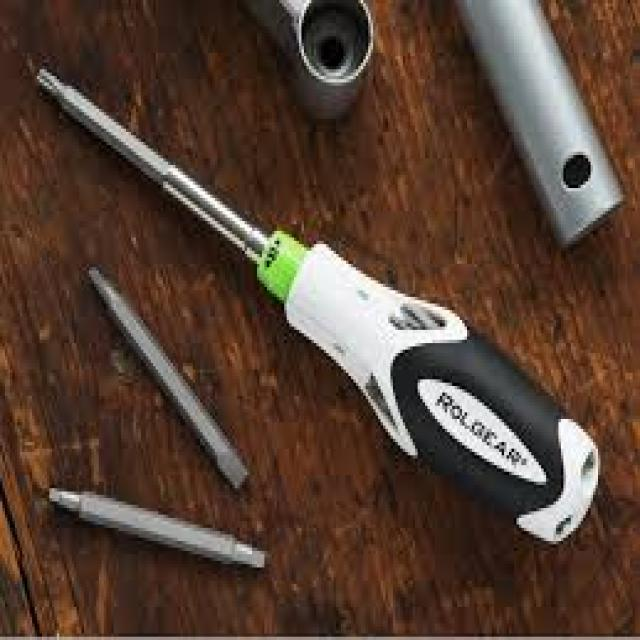screw driver: (17, 34, 581, 460)
